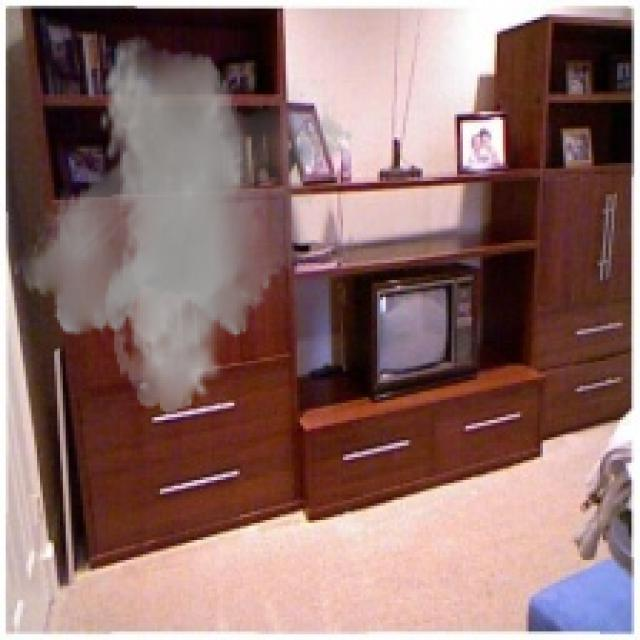smoke: (12, 34, 354, 414)
